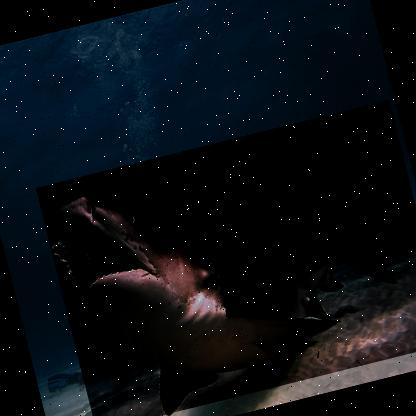tiger-shark: (36, 100, 415, 415)
